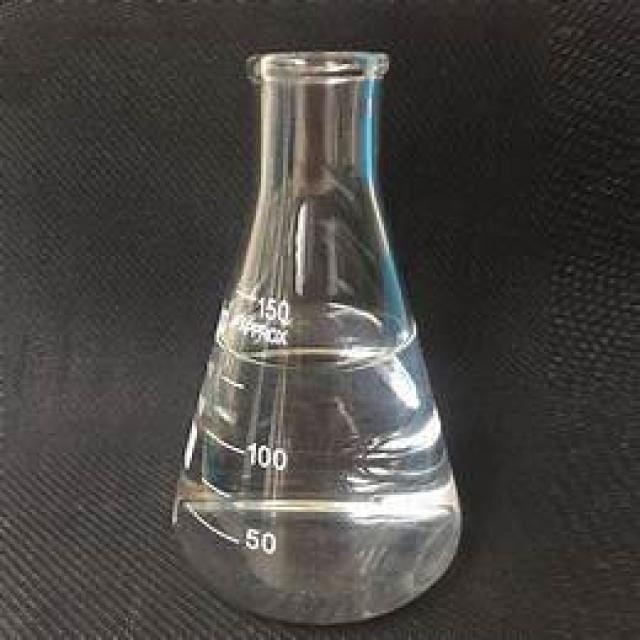Titrarion: (167, 42, 466, 626)
